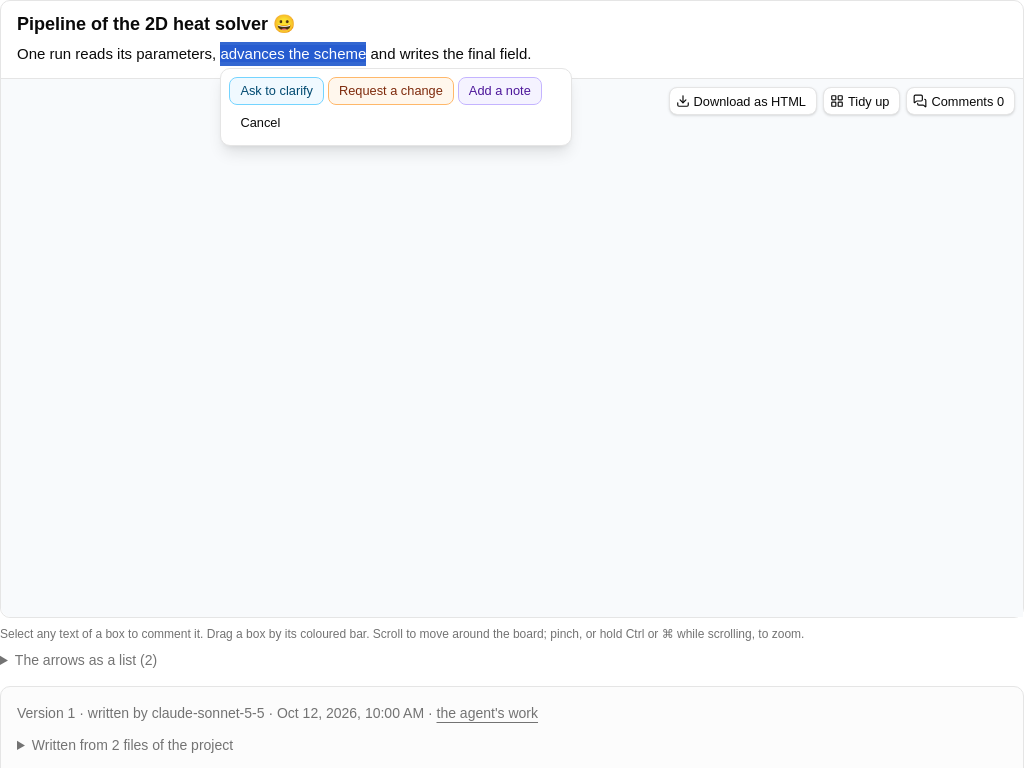
Test case: PipelineView › comments the title of a box and the summary as text of the pipeline too
The image size is (1024, 768).
Click the button "Add a note" at (500,91), box [458,77,542,105]
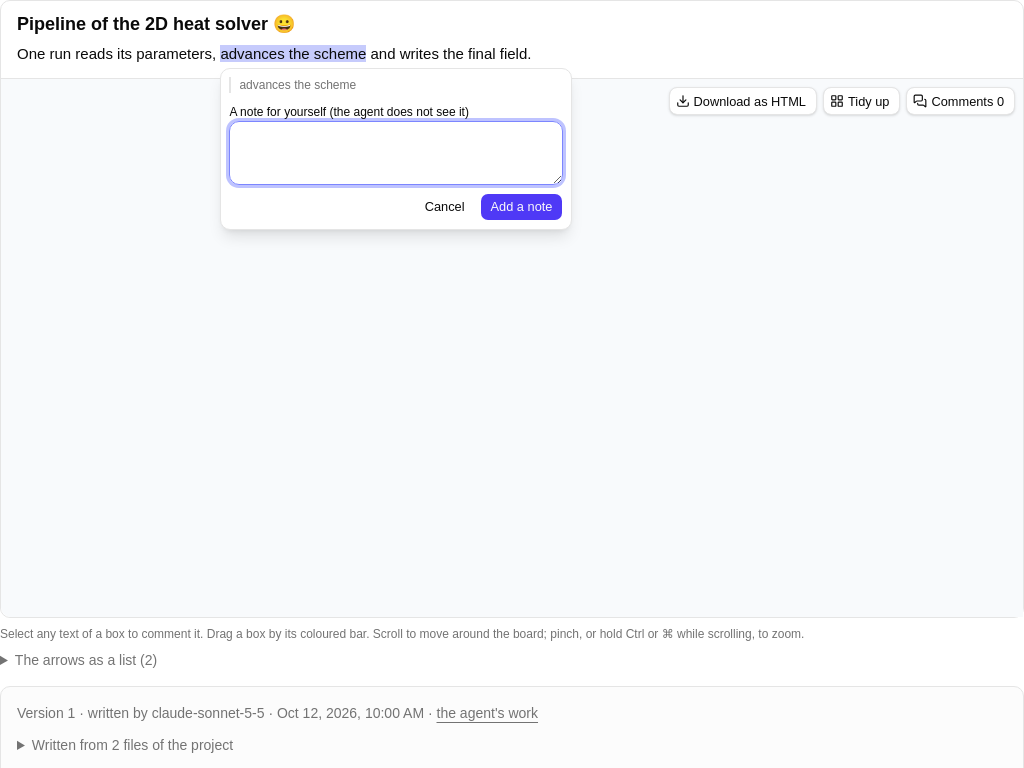
Click the button "Add a note" at (521,207), box [480,193,563,221]
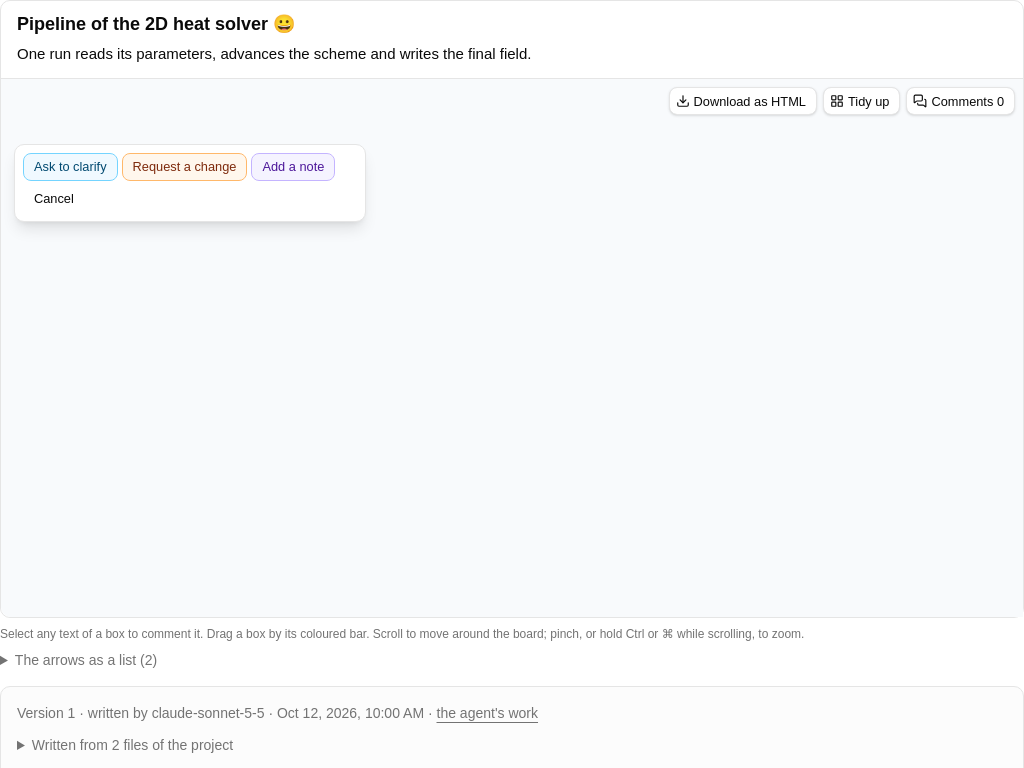
Now the button "Request a change" is shown, box [122,153,247,181]
